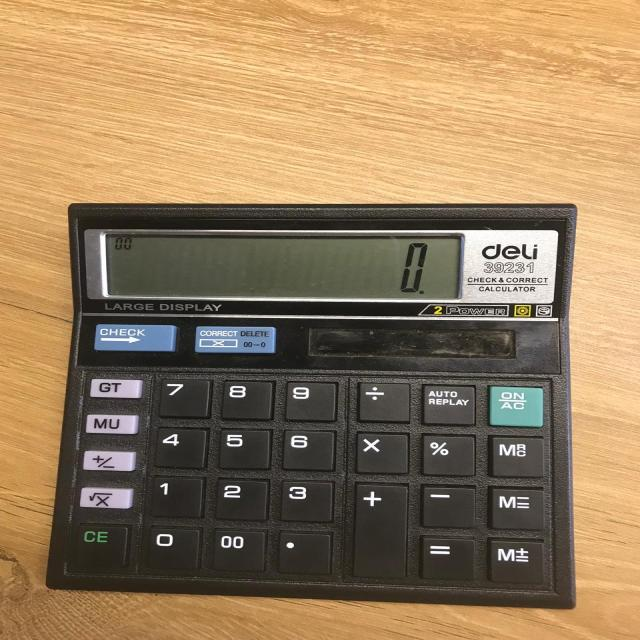calculator: (44, 201, 579, 609)
